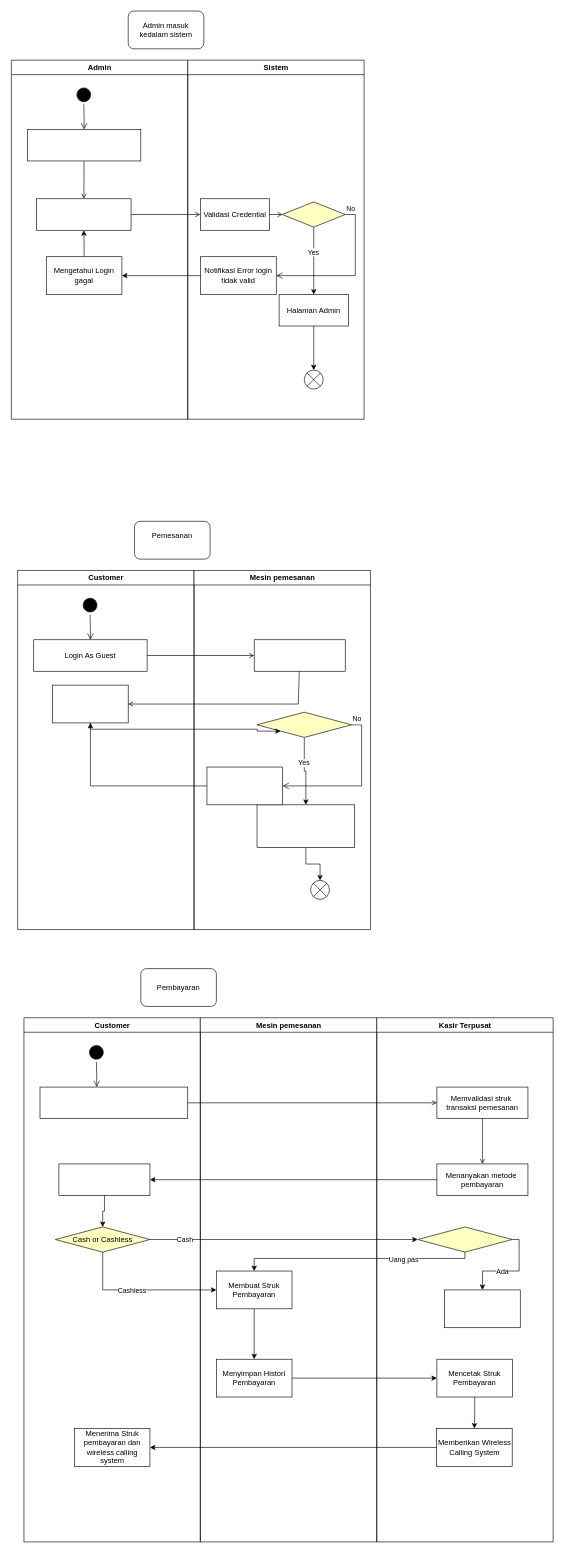
Image size: 564x1553. Some labels were removed from this diagram. Each missing label, with the centre of its shape:
"Apakah valid?" belongs at (313,214).
"Kembalian Uang" belongs at (482,1308).
"kembalian uang?" belongs at (464,1239).
"Memasukkkan credential (username, Password)" belongs at (83,214).
"Memberikan Struk pemesanan" belongs at (113,1102).
"Memilih Menu dan memesan" belongs at (90,703).
"Memilih metode pembayaran" belongs at (104,1179).
"Mencetak Struk Pesanan" belongs at (305,826).
"Menuju halaman login admin" belongs at (84,145).
"Notifikasi Menu X tidak tersedia" belongs at (244,785).
"Return Halaman Depan" belongs at (299,655).
"Validasi ketersediaan menu" belongs at (304,724).
